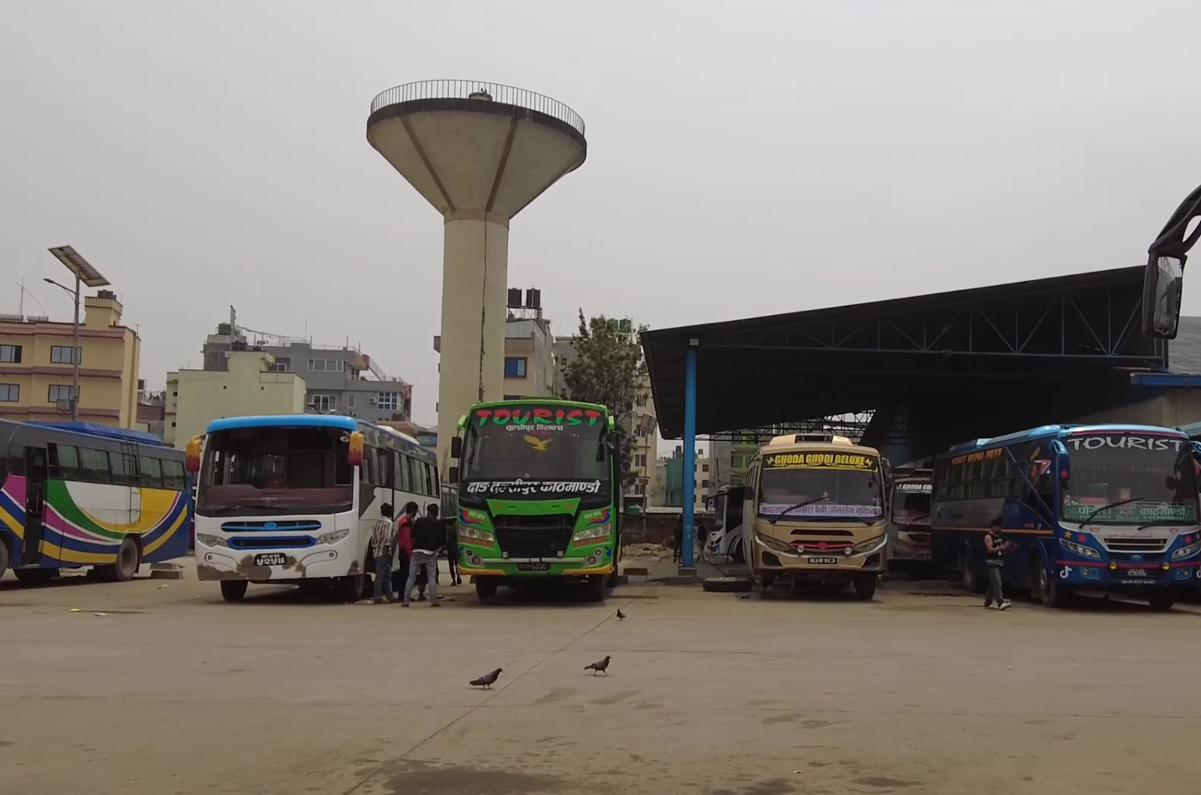bus: (921, 414, 1201, 634), (164, 410, 446, 616), (442, 398, 639, 600), (734, 426, 899, 608)
